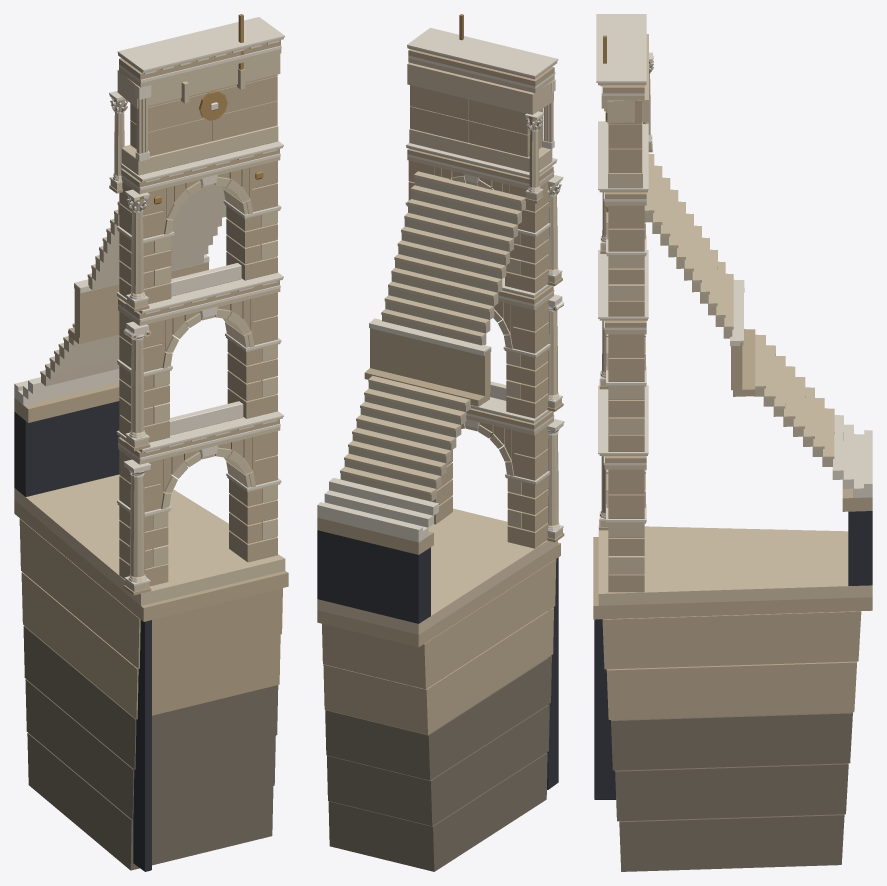
Rendered from UMOD_02_Standard_Clipeus_Bay.fbx.
3 views of the same model, side by side, from view 1: azimuth 30°, elevation 25°; view 2: azimuth 150°, elevation 25°; view 3: azimuth 270°, elevation 25° (orthographic). The views are drawn at different scales.
Parts seen in each view (by area): view 1: UMOD_02_Standard_Clipeus_Bay; view 2: UMOD_02_Standard_Clipeus_Bay; view 3: UMOD_02_Standard_Clipeus_Bay.
Boxes of the visible parts, x1,y1,x2,y2 form: UMOD_02_Standard_Clipeus_Bay: (14,14,288,871); UMOD_02_Standard_Clipeus_Bay: (317,14,564,871); UMOD_02_Standard_Clipeus_Bay: (593,14,872,871).
Size of the model in its own units: 18.47 by 96.54 by 29.95.
